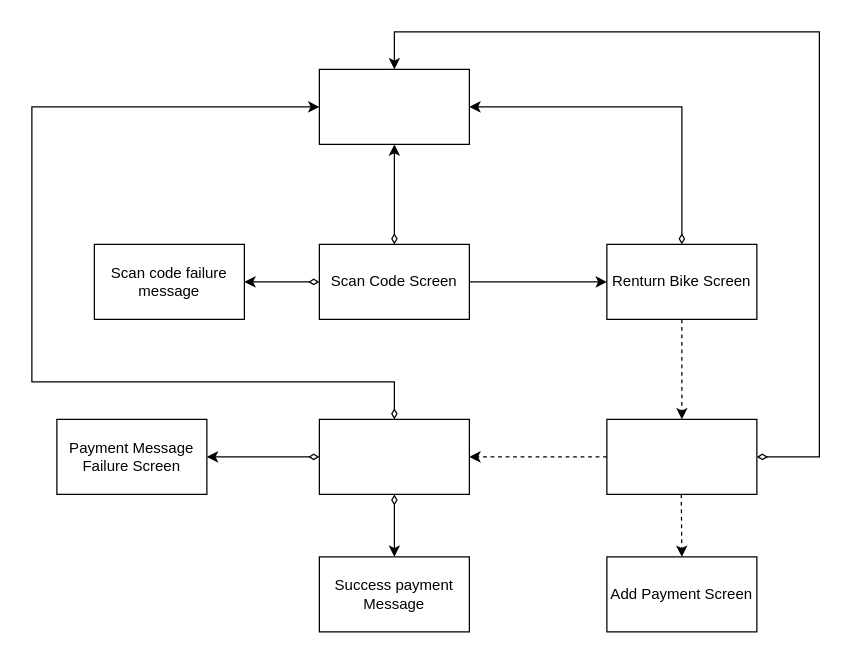
The diagram is 853 pixels wide and 654 high, and some of its shapes have lost their labels. Each missing label, with the centre of its shape:
Choose Payment Method Screen: [681,456]
Exit Message Box: [393,106]
Payment Screen: [393,456]
